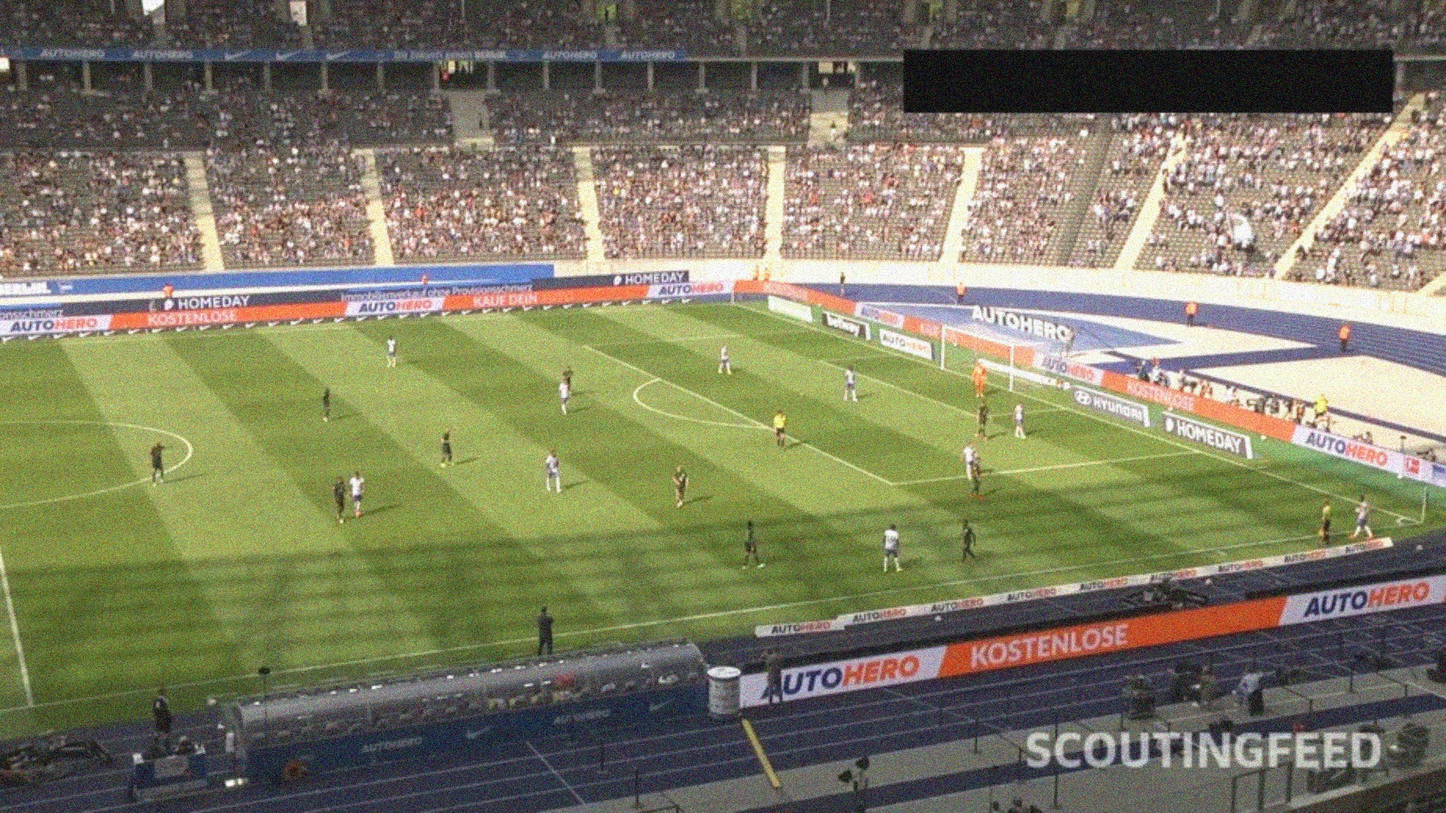ball: (1354, 507, 1361, 514)
goalkeeper: (970, 362, 988, 399)
player: (145, 441, 176, 488), (740, 519, 768, 571), (882, 523, 906, 575), (1349, 492, 1375, 540), (954, 518, 978, 566), (544, 449, 564, 495), (347, 471, 366, 519), (331, 476, 350, 524), (975, 399, 994, 444), (959, 440, 979, 481), (967, 457, 986, 499), (673, 464, 690, 509), (438, 427, 456, 469), (842, 365, 860, 404), (1010, 400, 1027, 440), (715, 343, 733, 377), (557, 379, 572, 415), (319, 385, 333, 423), (383, 334, 398, 368), (560, 365, 575, 396)
referee: (771, 410, 789, 449), (1319, 498, 1332, 547)
